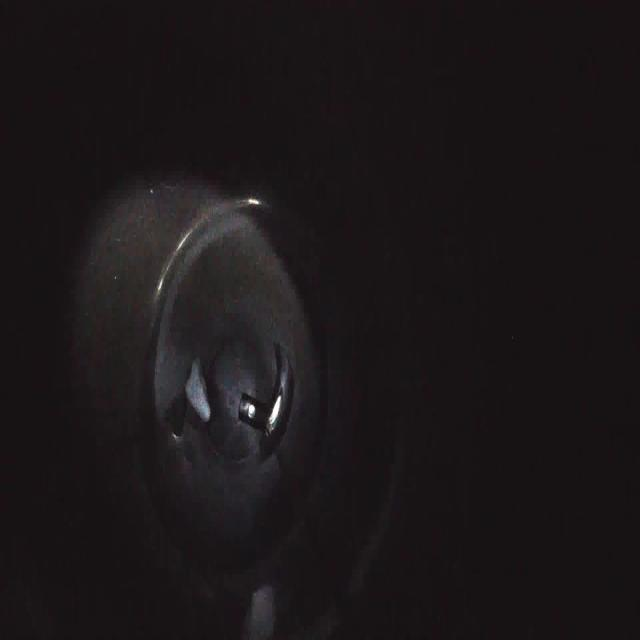impurity: (182, 349, 216, 424)
